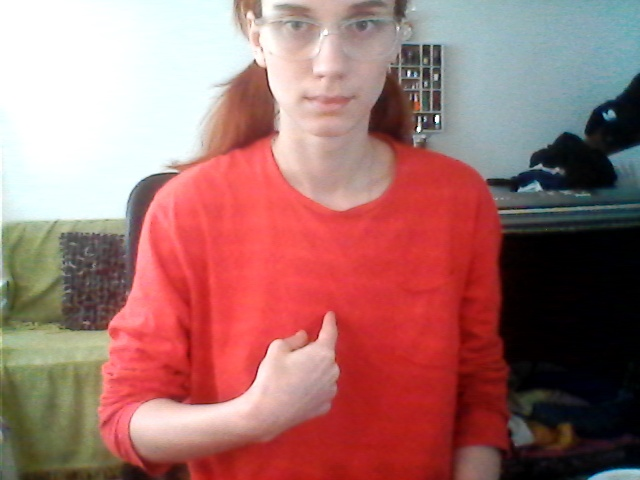ja: (242, 309, 369, 441)
